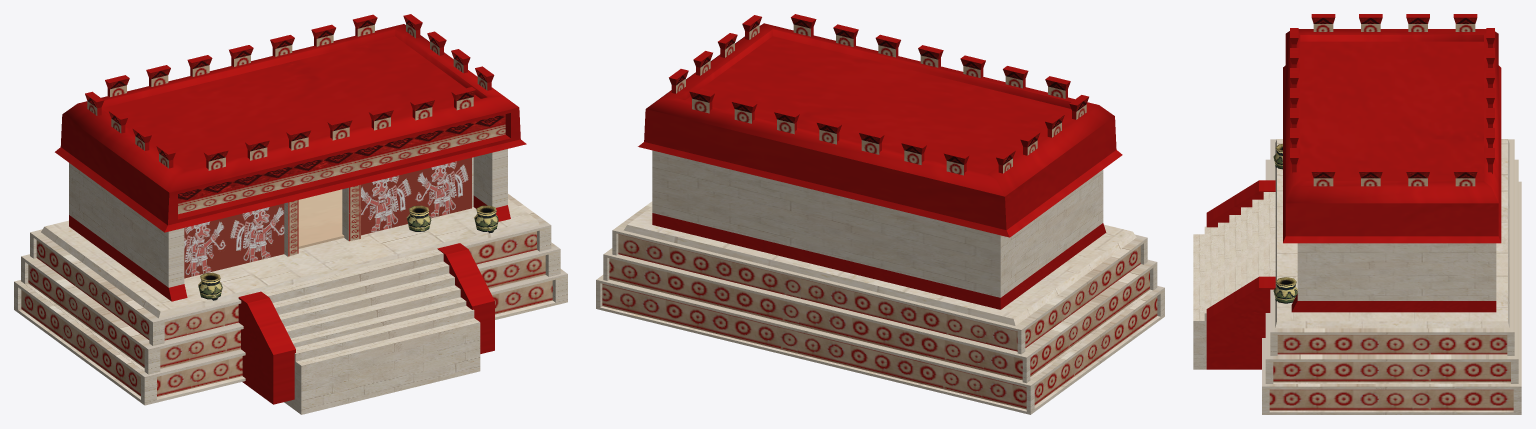
3 views of the same model, side by side, from view 1: azimuth 30°, elevation 25°; view 2: azimuth 150°, elevation 25°; view 3: azimuth 270°, elevation 25° (orthographic). The views are drawn at different scales.
Visible parts, largest first — view 1: cc; view 2: cc; view 3: cc.
Part boxes in pixels (left/top/right/bottom): cc: left=14, top=14, right=567, bottom=414; cc: left=596, top=14, right=1164, bottom=414; cc: left=1193, top=14, right=1521, bottom=414.
Size of the model in its own units: 26.84 by 18.15 by 14.23.
